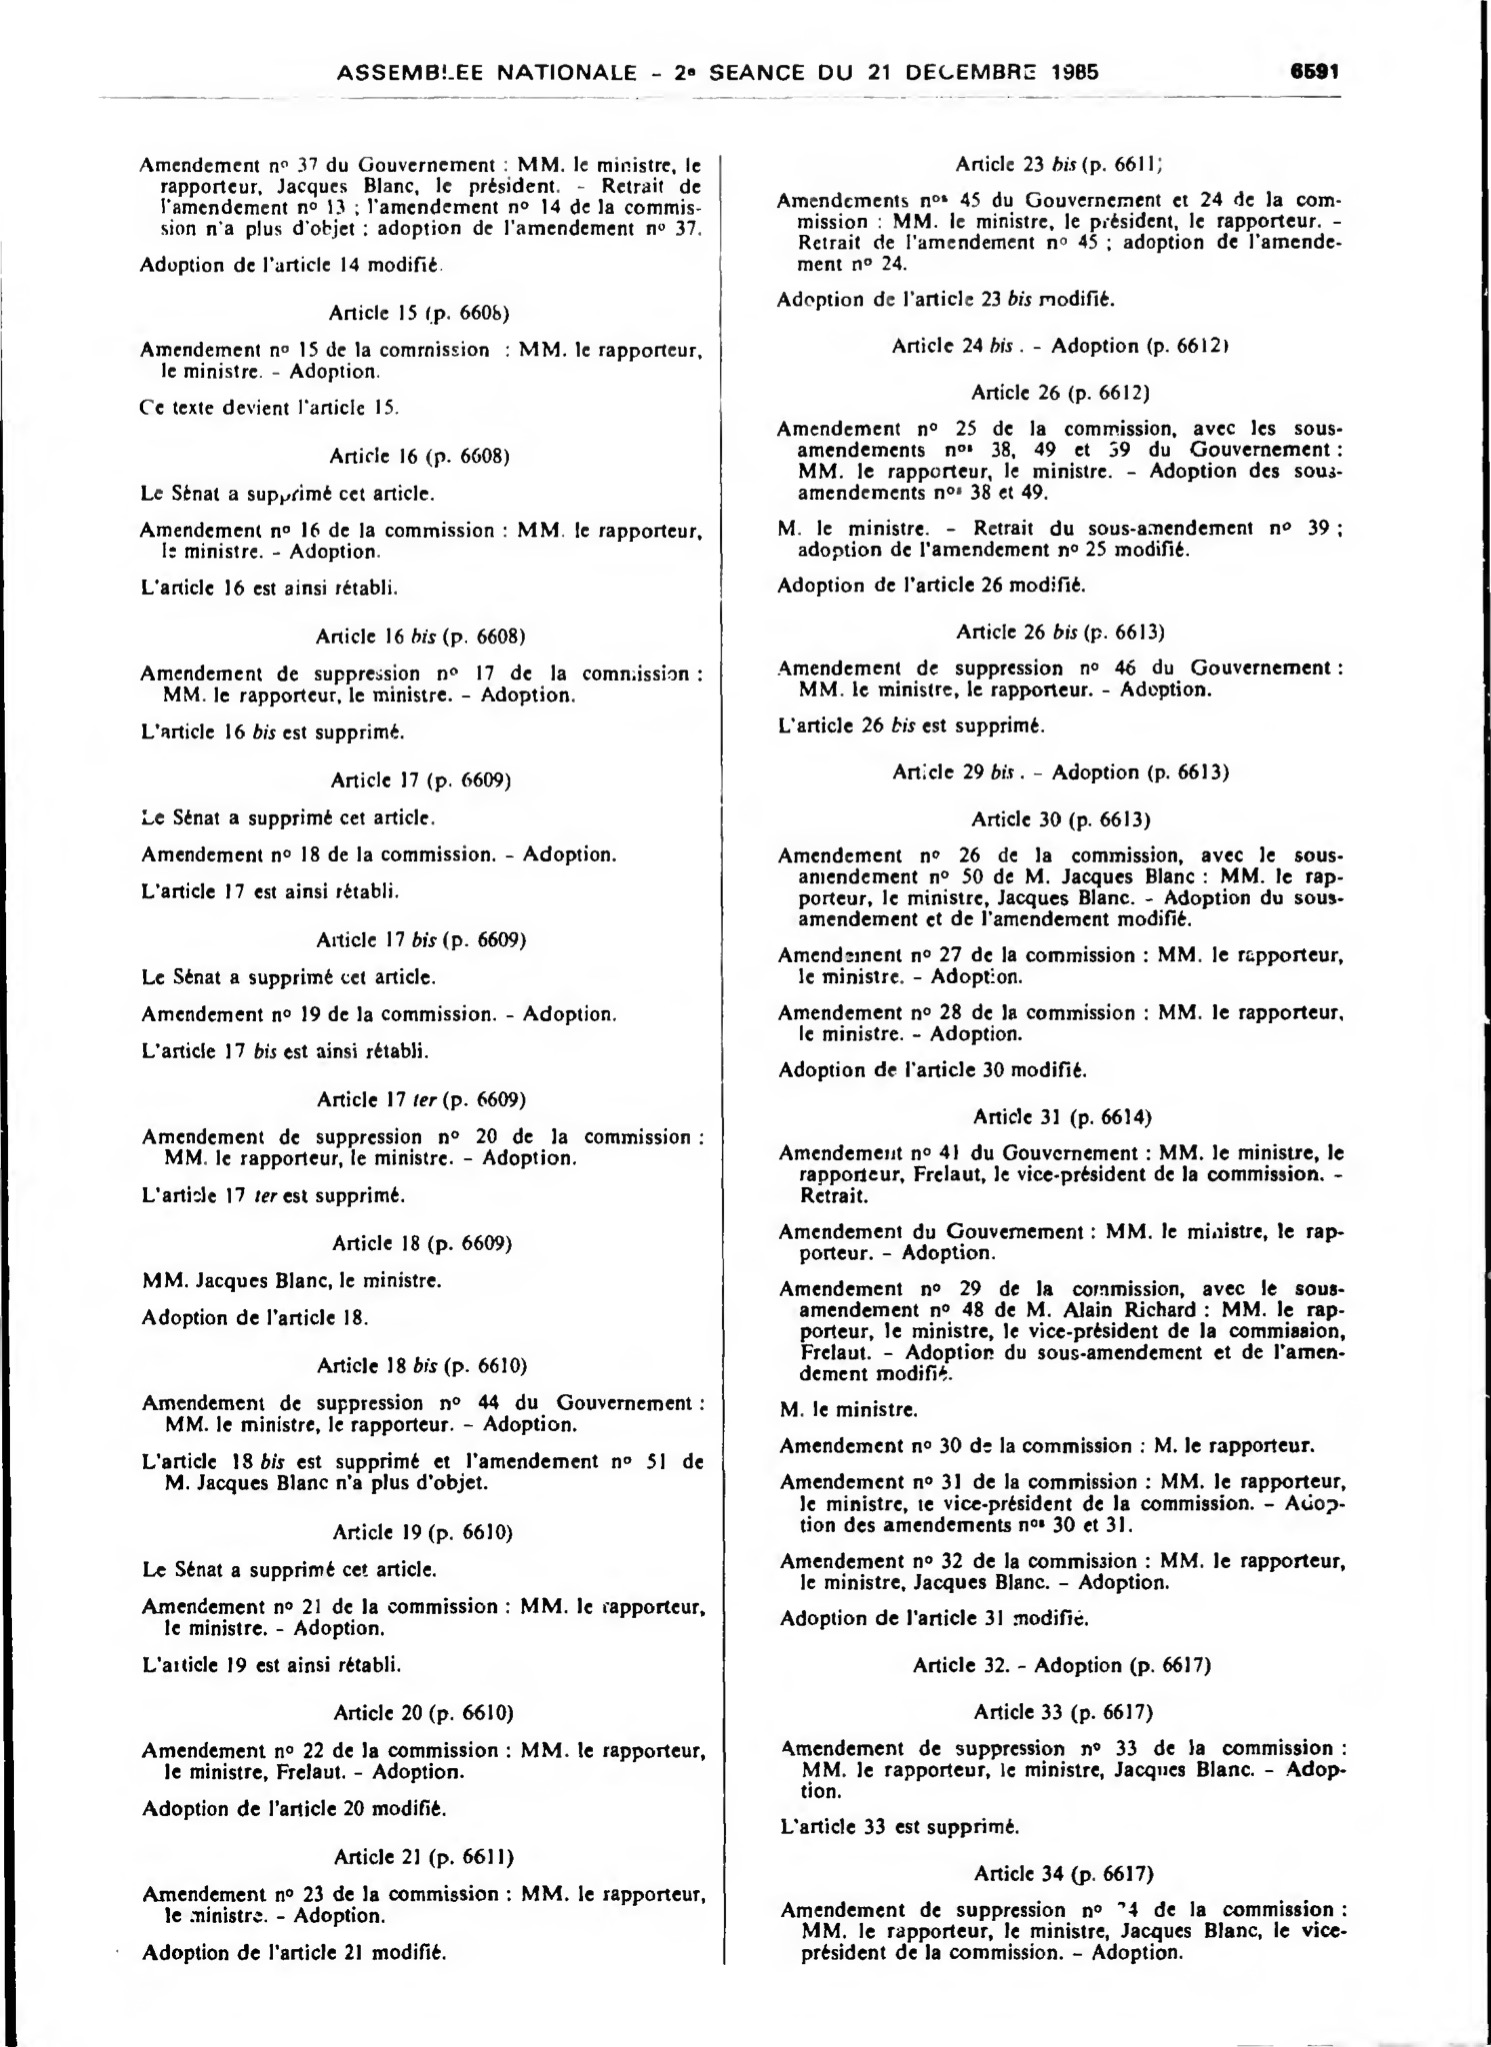MainZone-Head: (883, 753, 1247, 791), (878, 328, 1246, 364), (900, 1647, 1222, 1683), (303, 617, 534, 655), (946, 143, 1173, 181), (947, 614, 1175, 651), (308, 1348, 535, 1384), (308, 1081, 532, 1117), (962, 1097, 1160, 1135), (319, 293, 517, 330), (325, 1694, 520, 1731), (963, 375, 1160, 411), (324, 1514, 520, 1550), (962, 801, 1157, 837), (965, 1693, 1160, 1729), (320, 438, 517, 473), (325, 1839, 520, 1874), (324, 1226, 520, 1260), (309, 926, 533, 954), (963, 1858, 1161, 1889), (319, 766, 518, 793)
MainZone-P: (769, 1274, 1353, 1388), (767, 838, 1351, 936), (130, 148, 708, 244), (766, 413, 1352, 507), (766, 185, 1351, 277), (770, 1137, 1355, 1213), (771, 1467, 1357, 1541), (771, 1897, 1351, 1971), (771, 1734, 1355, 1806), (767, 512, 1351, 566), (768, 997, 1352, 1051), (767, 652, 1349, 706), (132, 1445, 713, 1499), (133, 1878, 712, 1932), (767, 939, 1352, 992), (132, 1386, 710, 1439), (130, 1120, 707, 1173), (769, 1215, 1353, 1267), (132, 1734, 711, 1786), (130, 515, 708, 567), (771, 1546, 1357, 1597), (130, 657, 704, 709), (133, 1591, 704, 1643), (129, 334, 705, 385), (770, 1429, 1344, 1464), (132, 997, 623, 1031), (131, 838, 617, 870), (761, 283, 1124, 317), (765, 1052, 1097, 1087), (135, 1936, 455, 1972), (131, 960, 465, 994), (130, 1262, 454, 1297), (763, 568, 1096, 602), (768, 1601, 1097, 1635), (132, 1032, 441, 1068), (130, 477, 447, 512), (127, 249, 449, 283), (132, 1791, 453, 1825), (128, 713, 414, 751), (131, 1553, 445, 1587), (129, 389, 411, 426), (767, 709, 1053, 745), (130, 570, 408, 607), (131, 1178, 413, 1214), (129, 873, 411, 908), (129, 802, 445, 832), (135, 1648, 411, 1681), (128, 1300, 379, 1334), (771, 1811, 1029, 1841), (771, 1391, 925, 1426)
StampZone: (324, 47, 1112, 97)
TitlePageZone: (1283, 53, 1345, 91)
